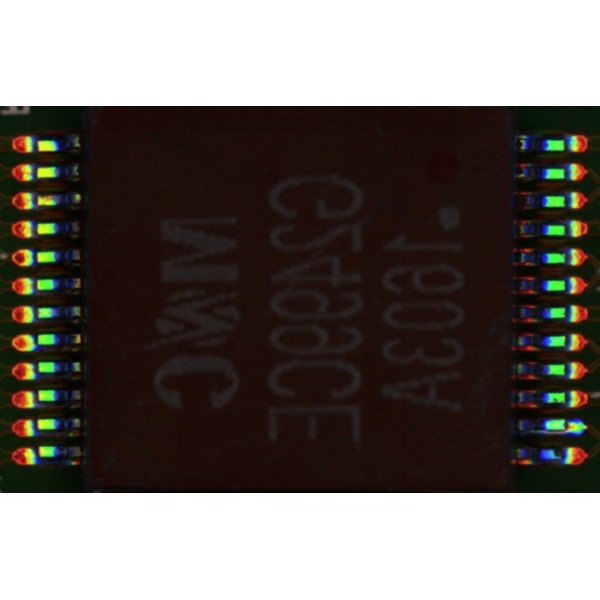Bad_podu: (559, 422, 574, 430)
Bad_qiaojiao: (528, 429, 565, 435)
